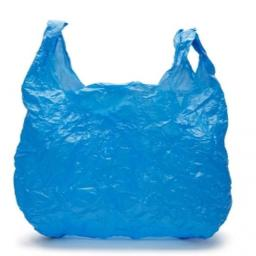Plastic: (13, 20, 227, 244)
